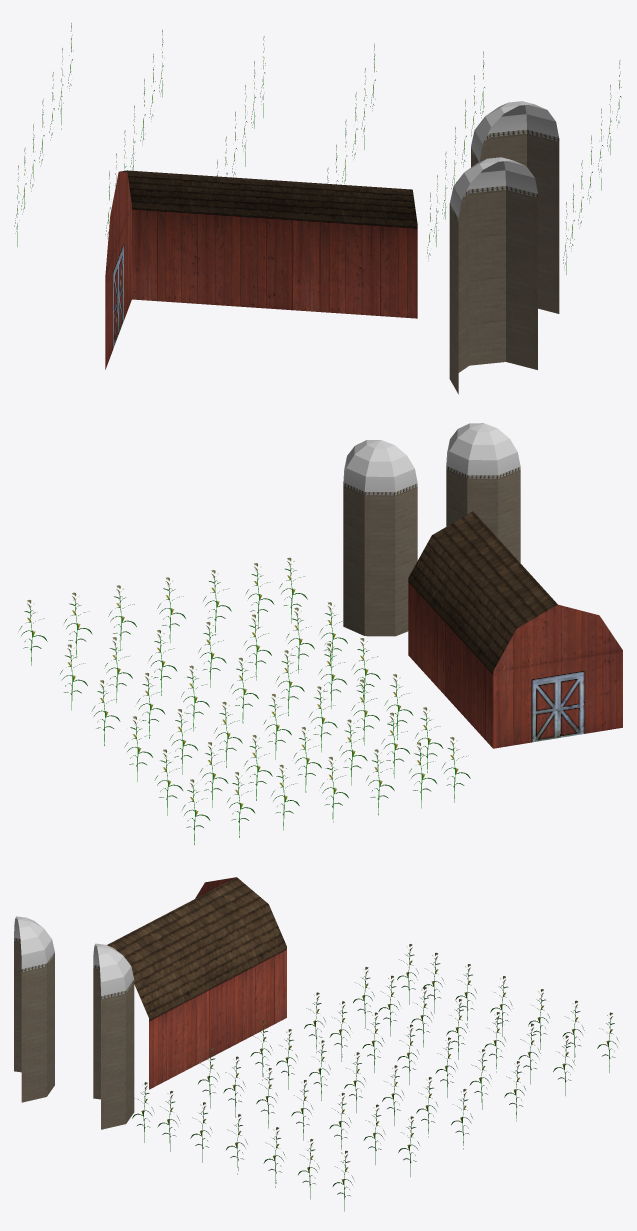
The model's file is CornFarm.fbx.
3 views of the same model, one above another, from view 1: azimuth 30°, elevation 25°; view 2: azimuth 150°, elevation 25°; view 3: azimuth 270°, elevation 25° (orthographic). The views are drawn at different scales.
Visible parts, largest first — view 1: pCube2, polySurface47, polySurface5; view 2: pCube2, polySurface5, polySurface47; view 3: pCube2, polySurface5, polySurface47.
Part boxes in pixels (x1,y1,x2,y2): pCube2: [105, 170, 417, 369]; polySurface47: [449, 157, 537, 394]; polySurface5: [471, 101, 559, 313]; pCube2: [408, 511, 622, 748]; polySurface5: [343, 440, 417, 636]; polySurface47: [446, 423, 520, 562]; pCube2: [107, 877, 286, 1089]; polySurface5: [93, 943, 134, 1129]; polySurface47: [14, 916, 54, 1102].
Bounding box in the file's own units: 87.54 × 29.4 × 96.61.
